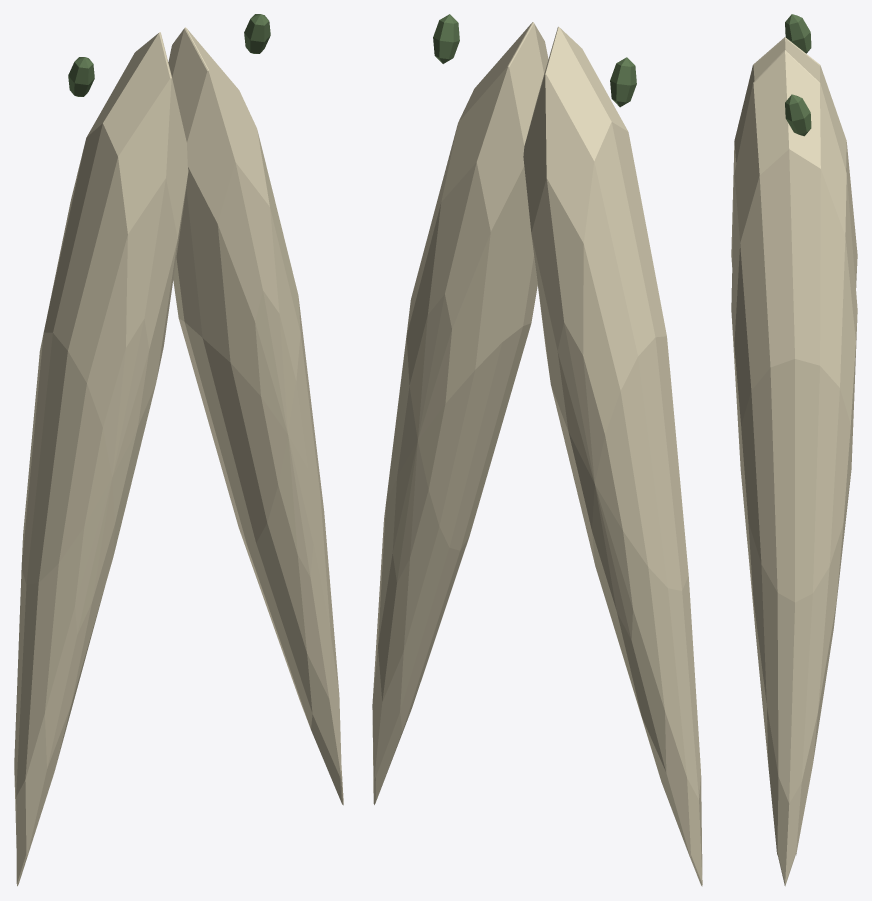
File: parsnips.glb
3 renders of one model, left to right at view 1: azimuth 30°, elevation 25°; view 2: azimuth 150°, elevation 25°; view 3: azimuth 270°, elevation 25°, orthographic. The views are drawn at different scales.
Parts seen in each view (by area): view 1: parsnips; view 2: parsnips; view 3: parsnips.
Part boxes in pixels (x1,y1,x2,y2): parsnips: (14, 14, 343, 886); parsnips: (372, 14, 702, 886); parsnips: (731, 14, 857, 886).
Size of the model in its own units: 0.0836 by 0.2005 by 0.0299.
